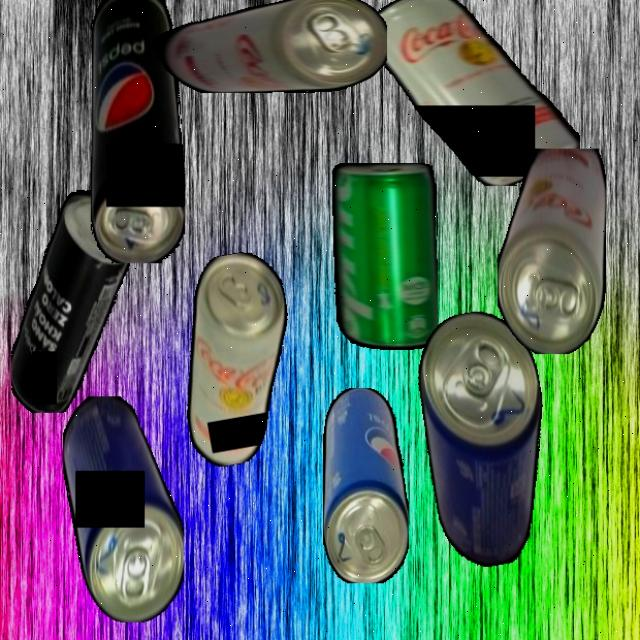debris: (406, 303, 568, 573), (366, 0, 580, 186), (161, 247, 312, 470), (10, 183, 130, 413), (62, 396, 184, 622), (90, 0, 185, 263), (496, 148, 606, 354), (146, 0, 387, 93), (331, 163, 438, 350), (322, 387, 409, 583)
